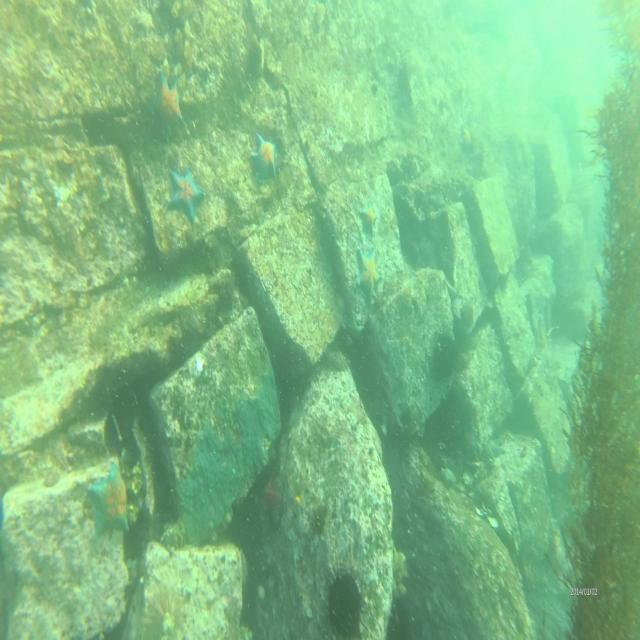echinus: (326, 565, 366, 640), (431, 330, 459, 382)
starfish: (88, 464, 132, 536), (167, 168, 204, 227), (154, 68, 187, 130), (353, 248, 383, 304), (251, 130, 279, 181), (359, 197, 381, 238)
